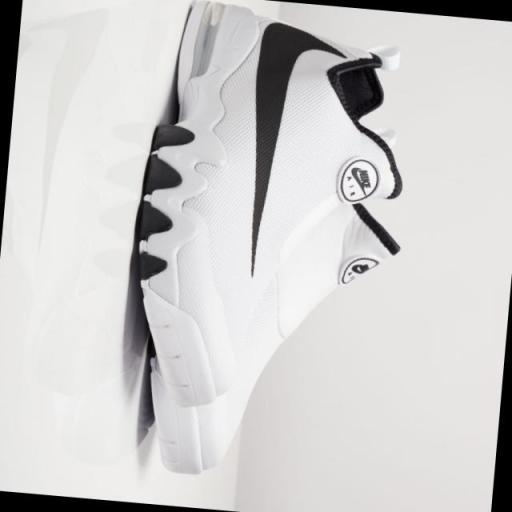Nike: (228, 21, 346, 298)
